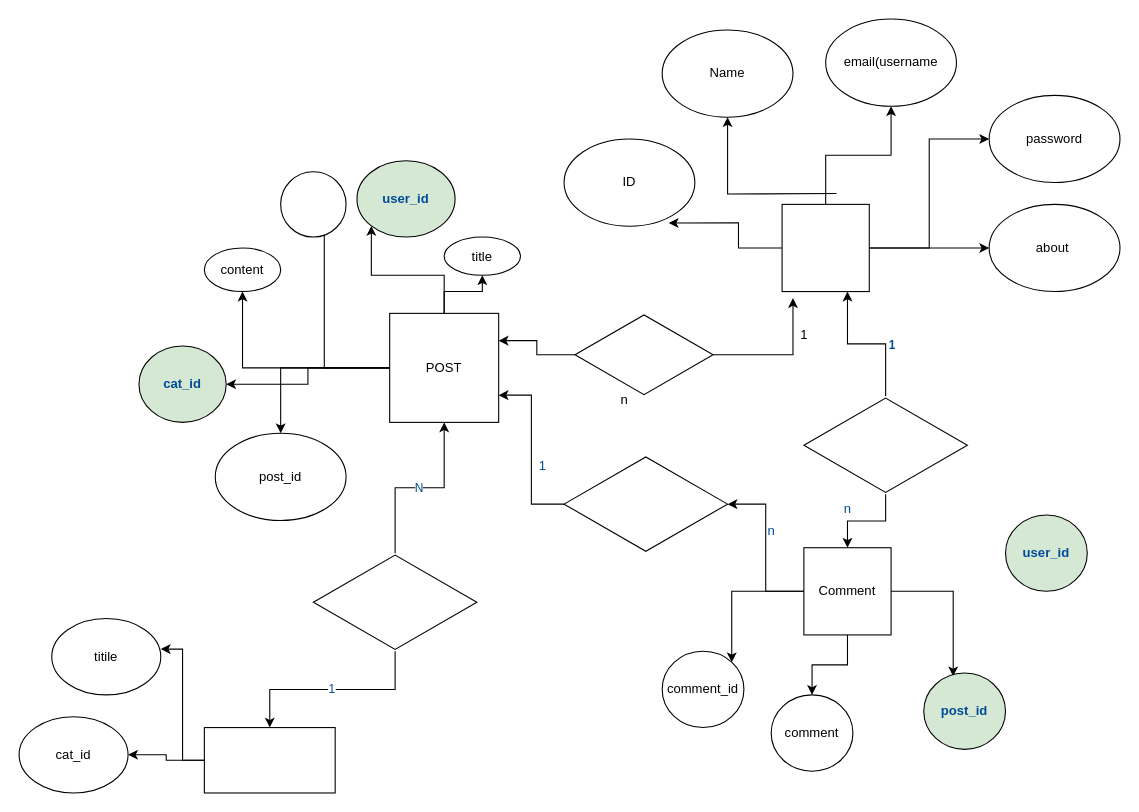
Image size: 1139x812. Some labels were removed from this diagram. Here are the shapes that lost their labels. From the top down, the centre of each, then its label:
the point at 313,204: image
the point at 825,247: USER
the point at 643,354: One to Many (Create_user)
the point at 885,444: do
the point at 645,503: have
the point at 394,601: contains
the point at 269,759: Category
